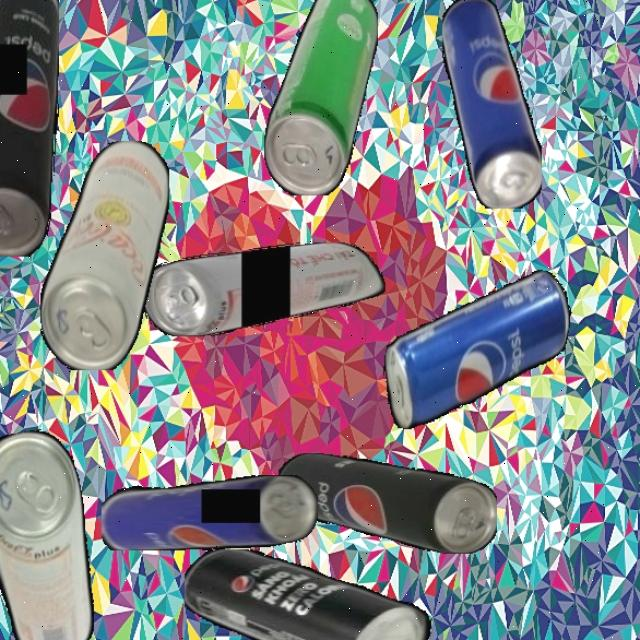debris: (373, 247, 578, 453), (39, 140, 170, 370), (0, 425, 109, 640), (185, 548, 438, 640), (143, 242, 386, 336), (263, 0, 377, 195), (277, 453, 497, 554), (441, 0, 542, 209), (100, 475, 318, 551), (0, 0, 59, 257)
